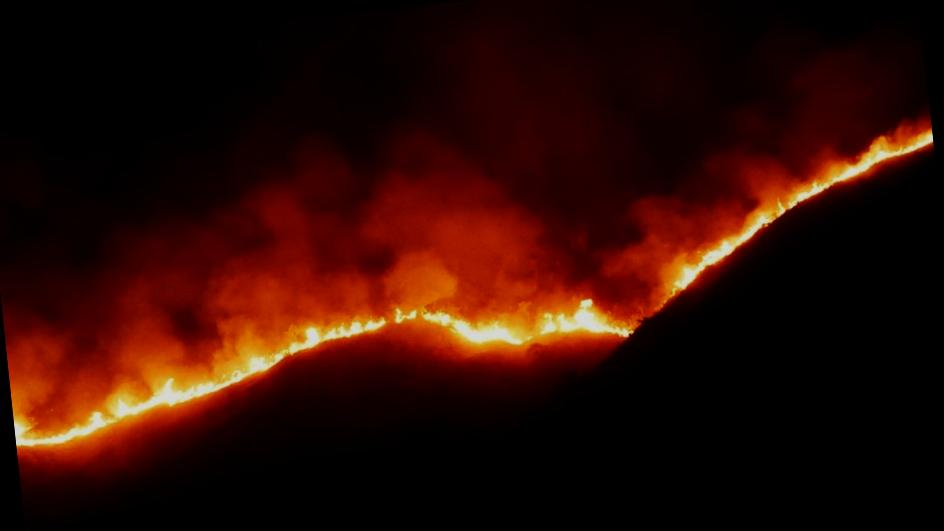fire: (657, 130, 935, 298), (206, 303, 537, 382), (14, 381, 198, 444), (542, 288, 644, 349)
